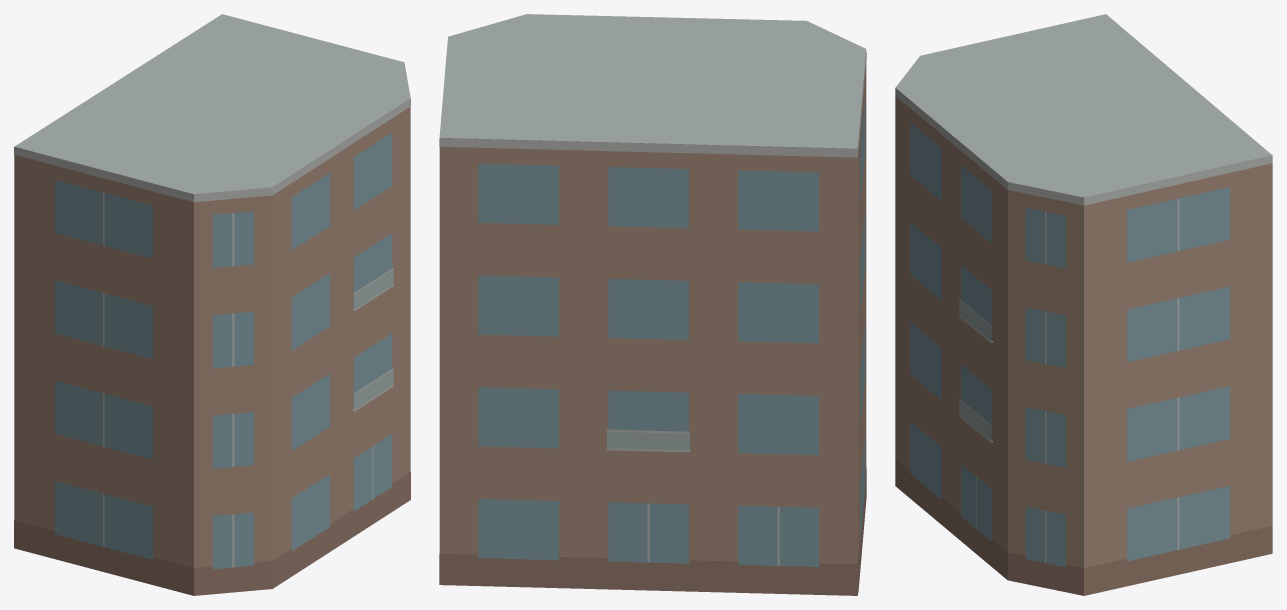
File: survey-upis-32913187.glb
The picture shows the model from 3 angles, left to right: view 1: azimuth 30°, elevation 25°; view 2: azimuth 150°, elevation 25°; view 3: azimuth 270°, elevation 25°; orthographic projection. The views are drawn at different scales.
Visible parts, largest first — view 1: survey-upis-32913187.tmp; view 2: survey-upis-32913187.tmp; view 3: survey-upis-32913187.tmp.
Part boxes in pixels (x1=…): survey-upis-32913187.tmp: x1=14, y1=14, x2=410, y2=595; survey-upis-32913187.tmp: x1=439, y1=14, x2=866, y2=595; survey-upis-32913187.tmp: x1=895, y1=14, x2=1272, y2=595.
Size of the model in its own units: 12.07 by 12.2 by 10.48.
